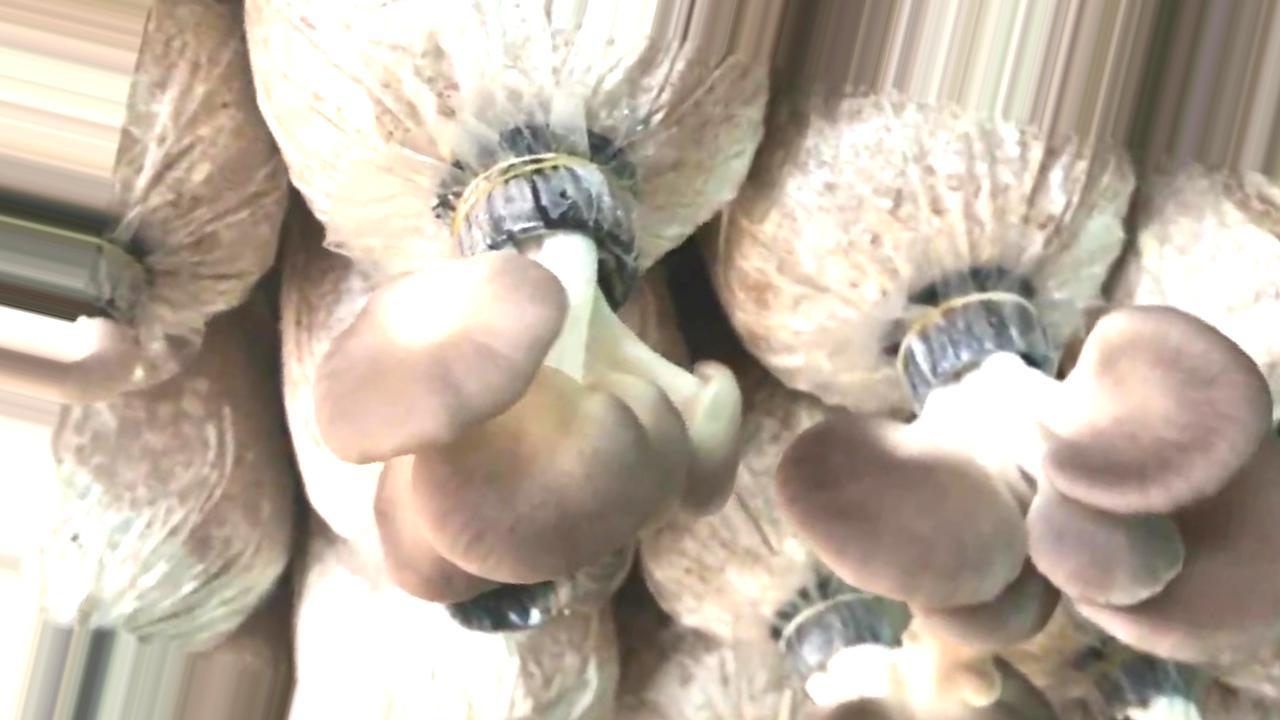nam: (322, 156, 742, 599), (782, 298, 1280, 653), (1, 199, 156, 400)
